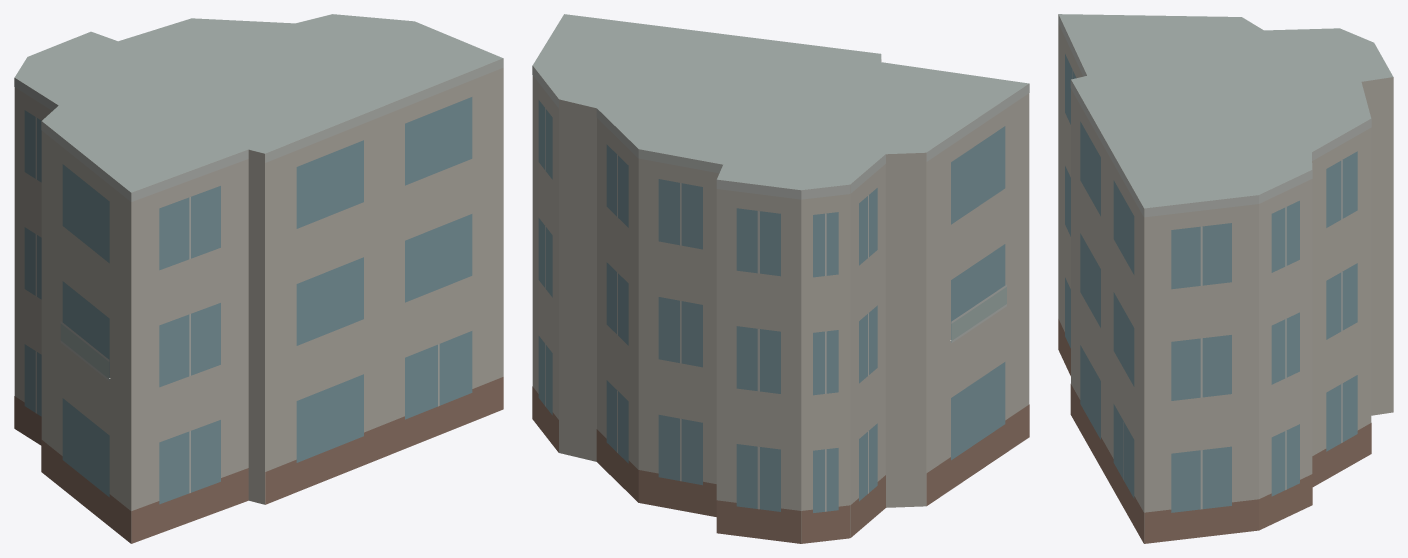
Rendered from survey-upis-32749814.glb.
3 renders of one model, left to right at view 1: azimuth 30°, elevation 25°; view 2: azimuth 150°, elevation 25°; view 3: azimuth 270°, elevation 25°, orthographic. The views are drawn at different scales.
Visible parts, largest first — view 1: survey-upis-32749814.tmp; view 2: survey-upis-32749814.tmp; view 3: survey-upis-32749814.tmp.
Boxes of the visible parts, <box> form: survey-upis-32749814.tmp: <box>14,14,503,543</box>; survey-upis-32749814.tmp: <box>532,14,1029,543</box>; survey-upis-32749814.tmp: <box>1058,14,1393,543</box>.
Size of the model in its own units: 11.39 by 9.15 by 8.3.
